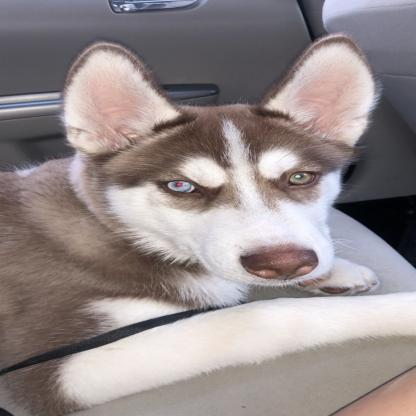husky: (1, 32, 390, 414)
